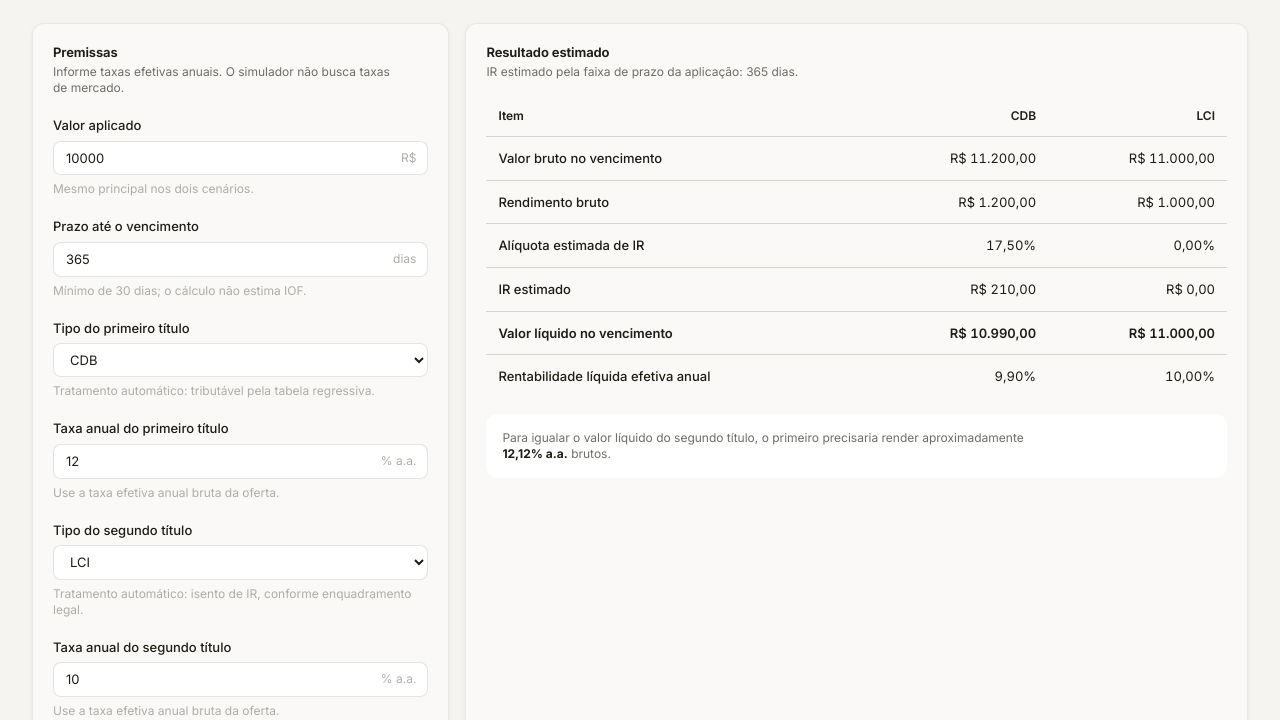
FixedIncomeCalculatorPage › derives income tax from the selected product type
Select "CDB" in the 2nd dropdown: (241, 562) [53,545,428,580]
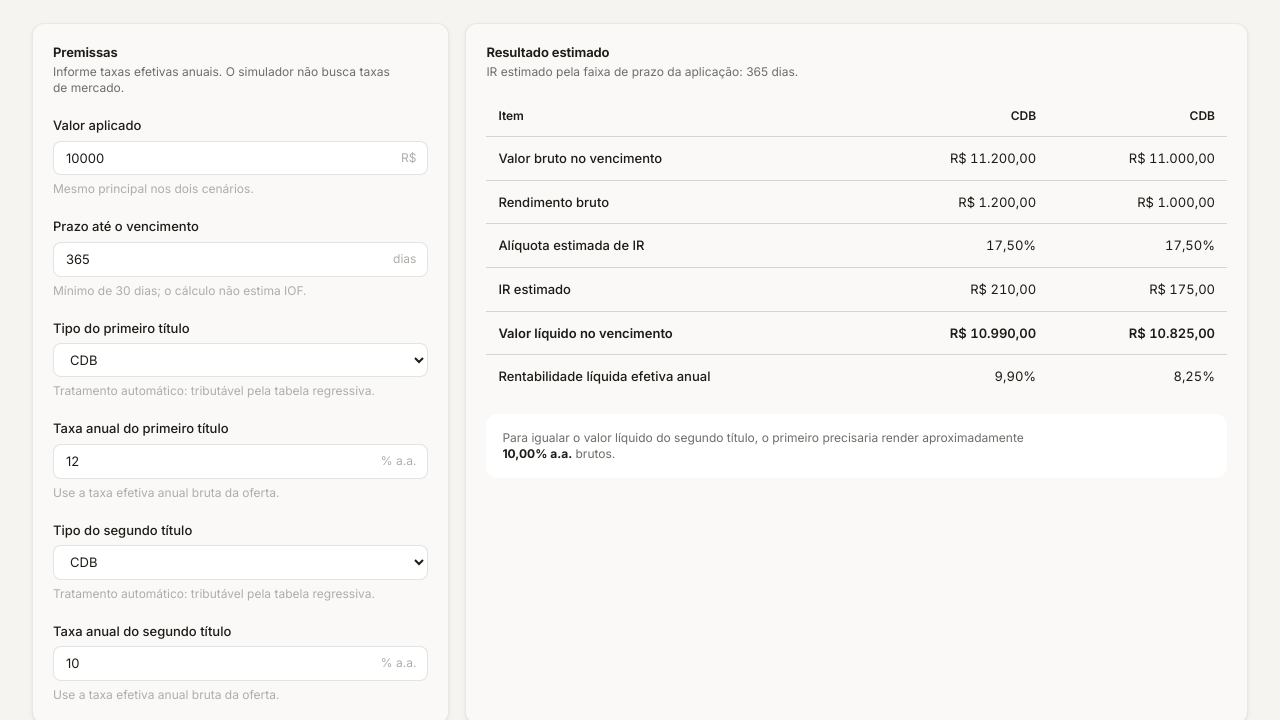
Check: the text "17,50%" is shown 2 times, box [869,224,1048,268]; [1048,224,1227,268]
Select "LCI" in the 2nd dropdown: (241, 562) [53,545,428,580]
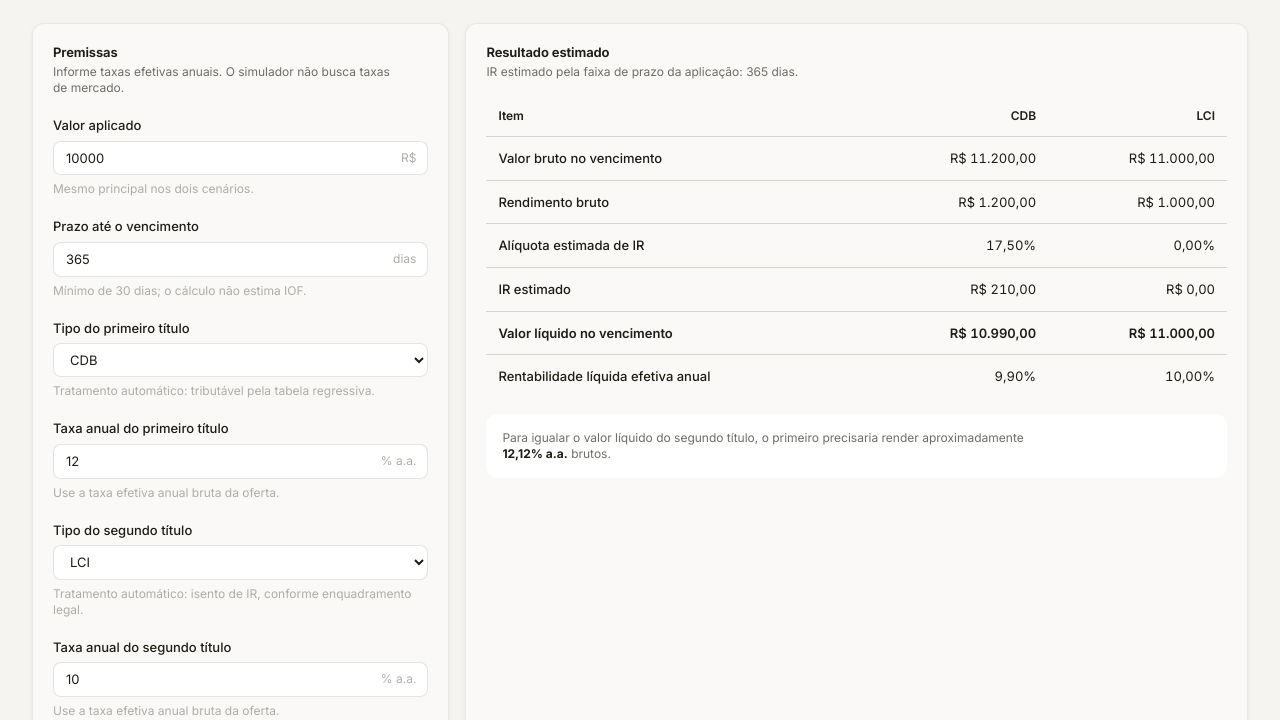
Check: the text "0,00%" is shown, box [1048,224,1227,268]
